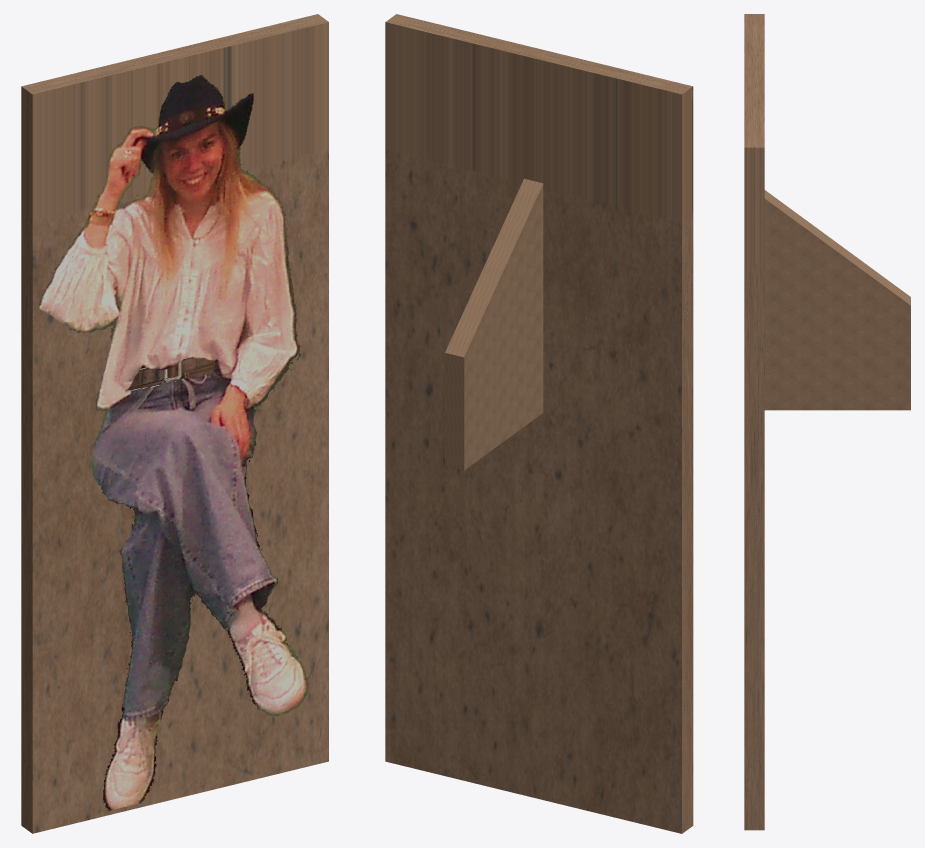
The model's file is 0-informant.fbx.
The picture shows the model from 3 angles, left to right: view 1: azimuth 30°, elevation 25°; view 2: azimuth 150°, elevation 25°; view 3: azimuth 270°, elevation 25°; orthographic projection. The views are drawn at different scales.
Parts seen in each view (by area): view 1: Cube.001, 0-bar; view 2: Cube.001, Cube.002; view 3: Cube.002, Cube.001.
Boxes of the visible parts, x1,y1,x2,y2 form: Cube.001: (21,14,328,833); 0-bar: (38,75,309,810); Cube.001: (385,14,693,833); Cube.002: (445,178,543,470); Cube.002: (764,190,910,410); Cube.001: (744,14,764,830).
Size of the model in its own units: 527 by 1110 by 249.
